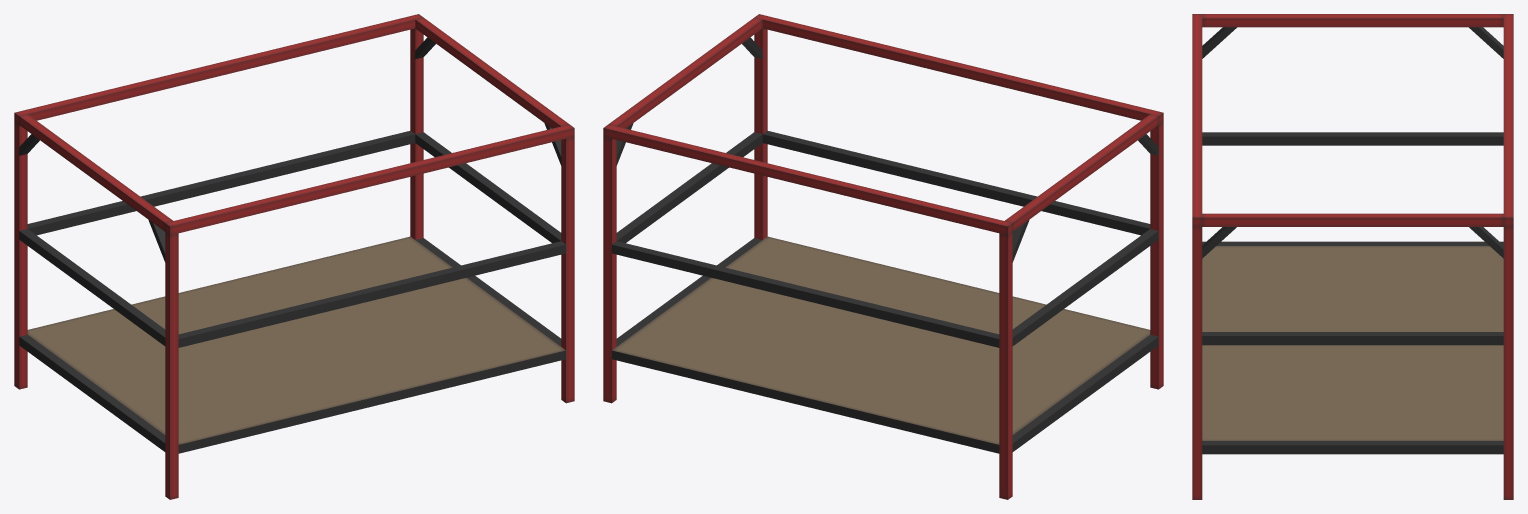
File: Scaffolding3.obj
3 views of the same model, side by side, from view 1: azimuth 30°, elevation 25°; view 2: azimuth 150°, elevation 25°; view 3: azimuth 270°, elevation 25° (orthographic). The views are drawn at different scales.
Visible parts, largest first — view 1: cuboid; view 2: cuboid; view 3: cuboid.
Part boxes in pixels (<box>): cuboid: <box>14,14,574,499</box>; cuboid: <box>603,14,1163,499</box>; cuboid: <box>1192,14,1513,499</box>.
Bounding box in the file's own units: 3 × 1.94 × 2.
1 material, 1 textured.
